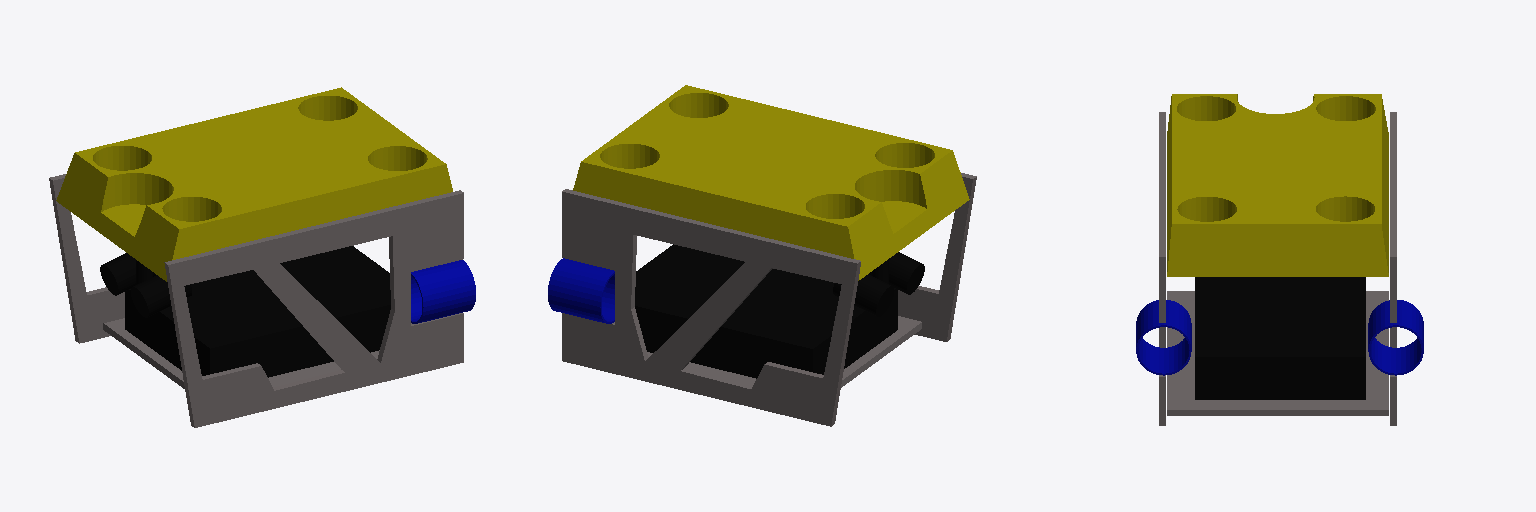
Rendered from romp_merge.obj.
3 renders of one model, left to right at view 1: azimuth 30°, elevation 25°; view 2: azimuth 150°, elevation 25°; view 3: azimuth 270°, elevation 25°, orthographic.
Parts seen in each view (by area): view 1: Cube_Cube.001, Cube.002_Cube.008, Cube.004_Cube.006, Cube.001_Cube, Cylinder.001_Cylinder.000, Cylinder.005_Cylinder.012, Cylinder.004_Cylinder.011; view 2: Cube_Cube.001, Cube.001_Cube, Cube.004_Cube.006, Cube.002_Cube.008, Cylinder_Cylinder.007, Cylinder.004_Cylinder.011, Cylinder.005_Cylinder.012; view 3: Cube_Cube.001, Cube.004_Cube.006, Cylinder.001_Cylinder.000, Cylinder_Cylinder.007, Cube.002_Cube.008, Cube.001_Cube.
Boxes of the visible parts, x1=… form: Cube_Cube.001: x1=56, y1=87, x2=452, y2=281; Cube.002_Cube.008: x1=164, y1=190, x2=463, y2=427; Cube.004_Cube.006: x1=103, y1=246, x2=390, y2=388; Cube.001_Cube: x1=49, y1=174, x2=124, y2=343; Cylinder.001_Cylinder.000: x1=411, y1=260, x2=475, y2=323; Cylinder.005_Cylinder.012: x1=131, y1=275, x2=191, y2=317; Cylinder.004_Cylinder.011: x1=100, y1=253, x2=155, y2=295; Cube_Cube.001: x1=573, y1=85, x2=969, y2=280; Cube.001_Cube: x1=562, y1=189, x2=860, y2=426; Cube.004_Cube.006: x1=635, y1=244, x2=921, y2=387; Cube.002_Cube.008: x1=898, y1=173, x2=976, y2=341; Cylinder_Cylinder.007: x1=548, y1=258, x2=614, y2=323; Cylinder.004_Cylinder.011: x1=833, y1=274, x2=894, y2=316; Cylinder.005_Cylinder.012: x1=869, y1=252, x2=924, y2=294; Cube_Cube.001: x1=1167, y1=94, x2=1388, y2=276; Cube.004_Cube.006: x1=1167, y1=277, x2=1388, y2=415; Cylinder.001_Cylinder.000: x1=1136, y1=300, x2=1191, y2=375; Cylinder_Cylinder.007: x1=1368, y1=300, x2=1423, y2=375; Cube.002_Cube.008: x1=1159, y1=112, x2=1165, y2=425; Cube.001_Cube: x1=1390, y1=112, x2=1396, y2=425.
Bounding box in the file's own units: 4.01 × 2.53 × 3.37.